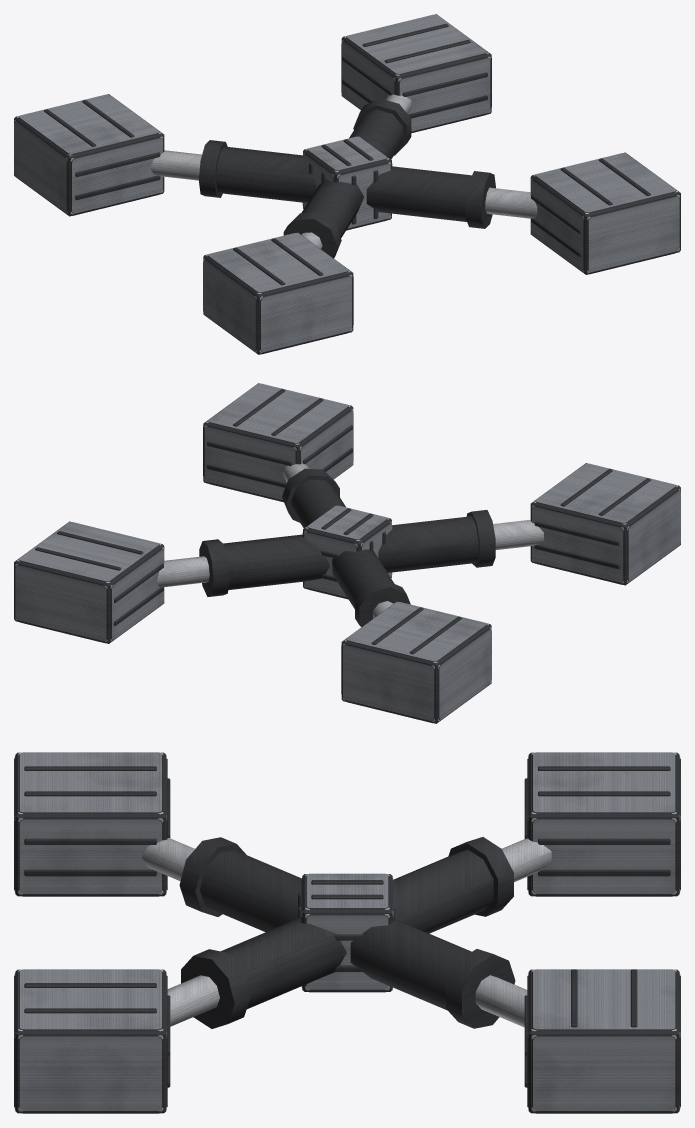
File: R4C_ROD_CROSS.glb
3 renders of one model, top to bottom at view 1: azimuth 30°, elevation 25°; view 2: azimuth 150°, elevation 25°; view 3: azimuth 270°, elevation 25°, orthographic. The views are drawn at different scales.
Parts seen in each view (by area): view 1: R4C_ROD_CROSS; view 2: R4C_ROD_CROSS; view 3: R4C_ROD_CROSS.
Boxes of the visible parts, x1,y1,x2,y2 form: R4C_ROD_CROSS: [14, 14, 680, 354]; R4C_ROD_CROSS: [14, 383, 680, 723]; R4C_ROD_CROSS: [14, 752, 680, 1113].
Size of the model in its own units: 1.62 by 0.233 by 1.62.
4 materials, 4 textured.
